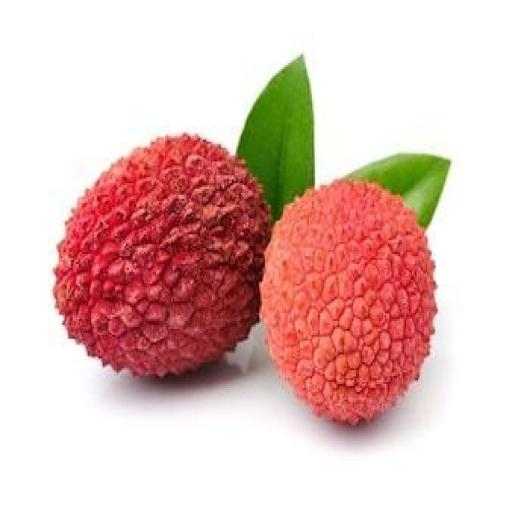lychee: (55, 136, 269, 376), (261, 182, 436, 423)
